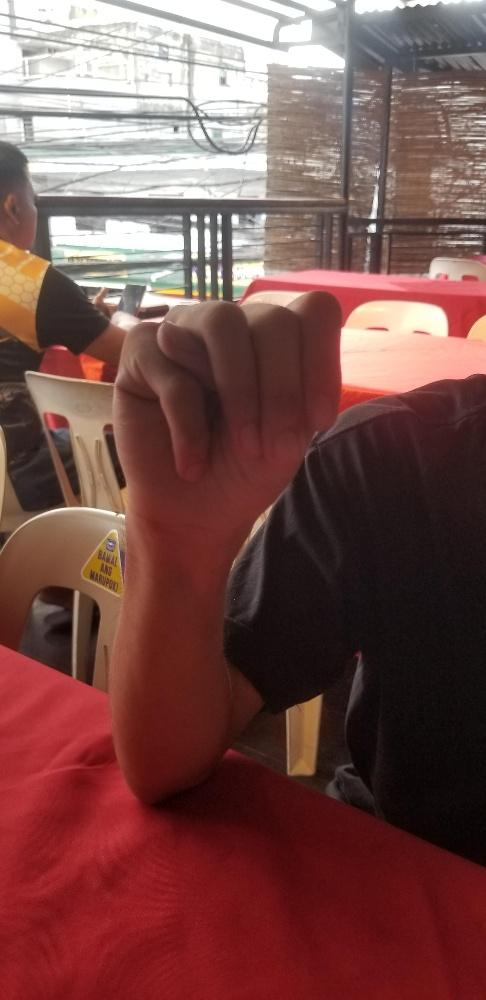m: (107, 283, 345, 542)
